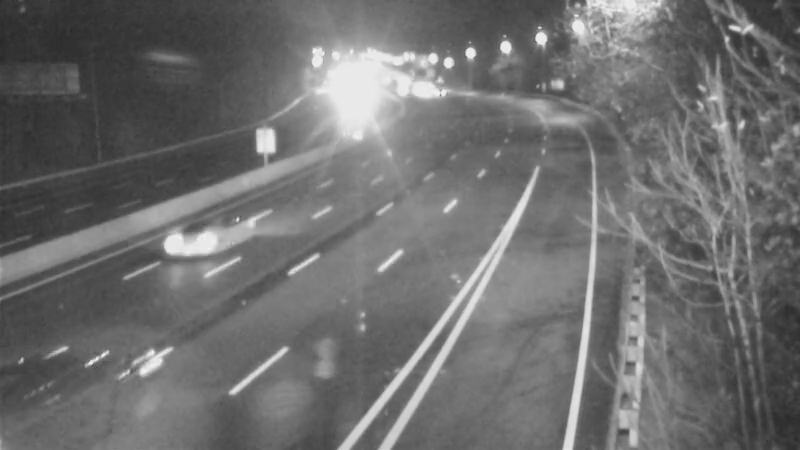vehicle: (163, 199, 243, 279), (415, 69, 465, 119)
